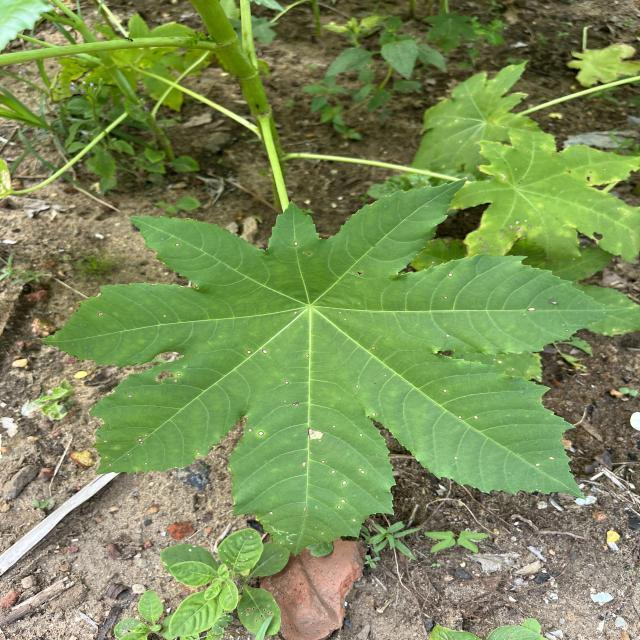Ricinus communis linn: (32, 173, 640, 560)
